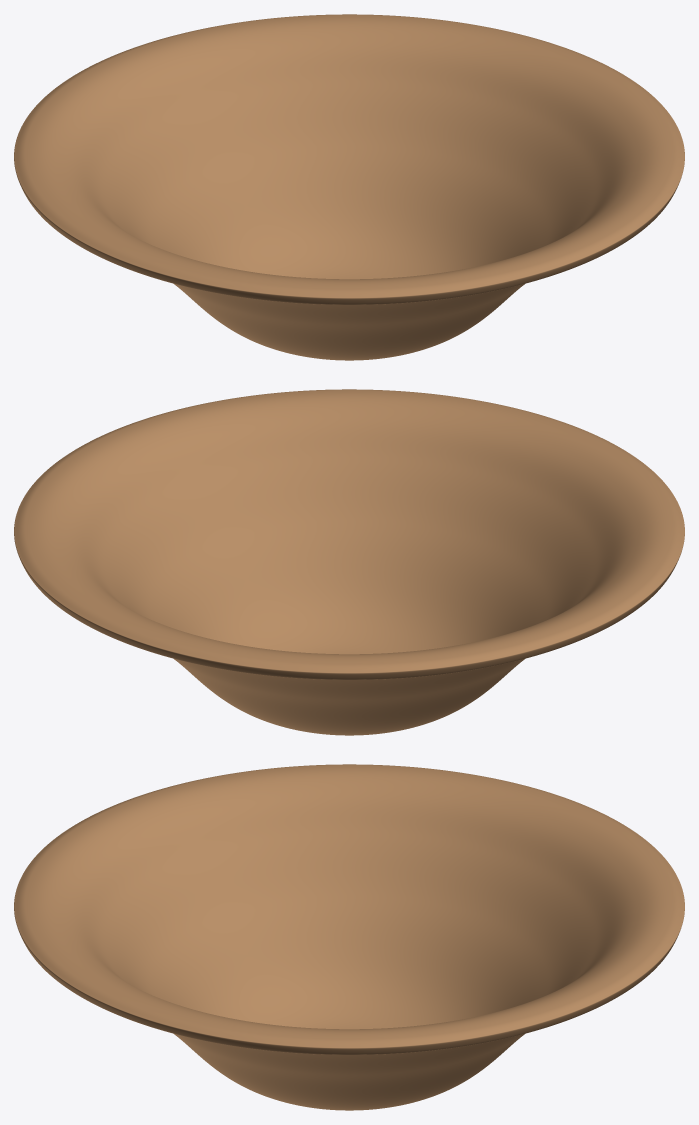
3 renders of one model, top to bottom at view 1: azimuth 30°, elevation 25°; view 2: azimuth 150°, elevation 25°; view 3: azimuth 270°, elevation 25°, orthographic.
Visible parts, largest first — view 1: Plate; view 2: Plate; view 3: Plate.
Boxes of the visible parts, x1,y1,x2,y2 form: Plate: [14, 14, 684, 360]; Plate: [14, 389, 684, 735]; Plate: [14, 764, 684, 1110].
Bounding box in the file's own units: 0.3209 × 0.0901 × 0.3209.
